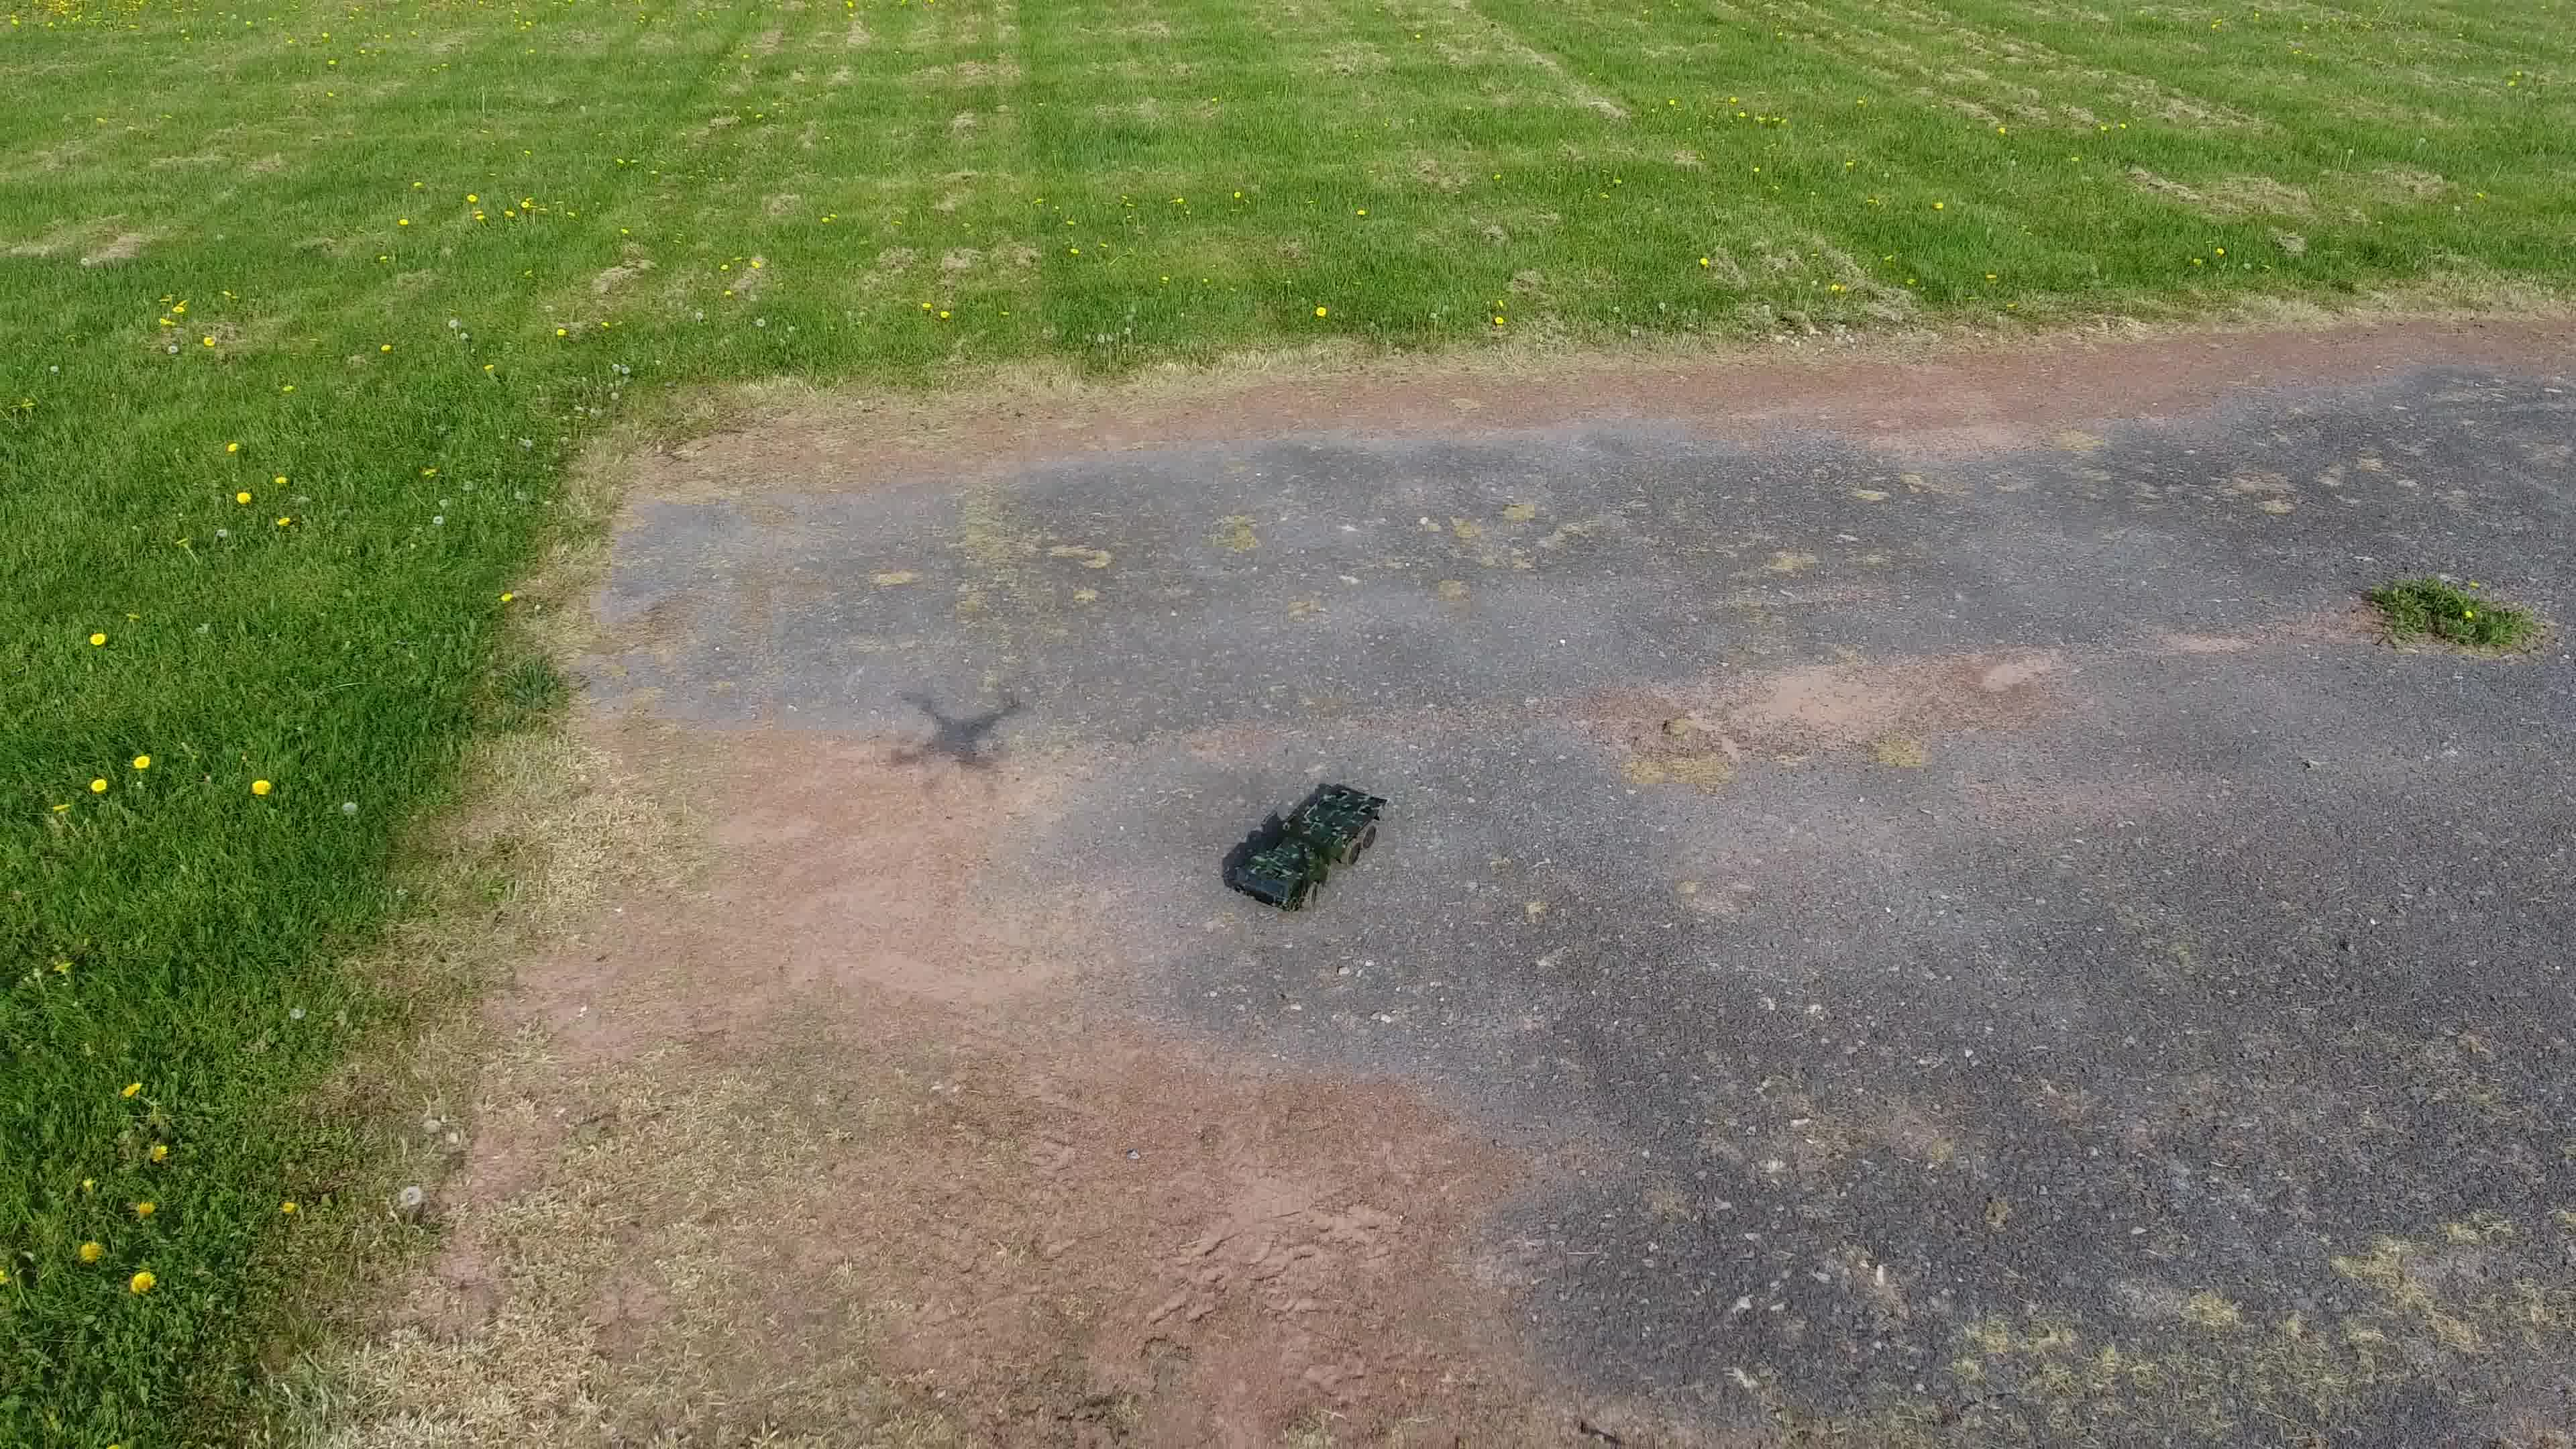transporter9_camo: (1217, 782, 1387, 918)
